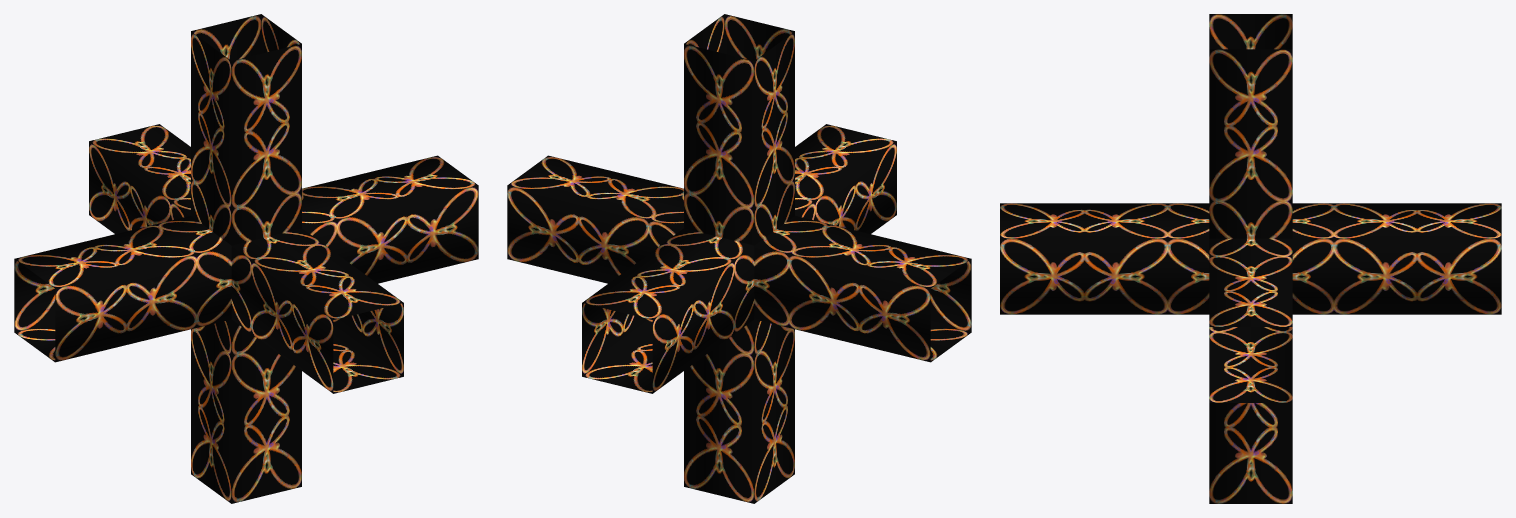
Rendered from Tetrahemihexacron19.gltf.
3 renders of one model, left to right at view 1: azimuth 30°, elevation 25°; view 2: azimuth 150°, elevation 25°; view 3: azimuth 270°, elevation 25°, orthographic. The views are drawn at different scales.
Parts seen in each view (by area): view 1: Tetrahemihexacron1; view 2: Tetrahemihexacron1; view 3: Tetrahemihexacron1.
Part boxes in pixels (<box>): Tetrahemihexacron1: <box>14,14,478,503</box>; Tetrahemihexacron1: <box>507,14,971,503</box>; Tetrahemihexacron1: <box>1000,14,1501,503</box>.
Size of the model in its own units: 6 by 6 by 6.
Materials: 1 (1 with a texture image).
